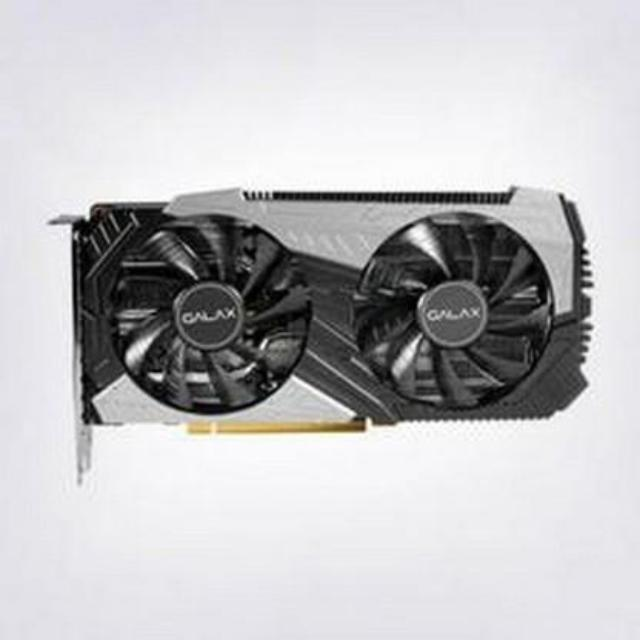GPU: (59, 185, 592, 446)
